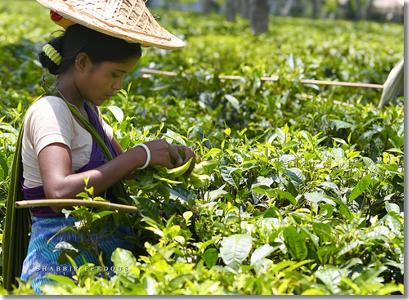person: (17, 13, 206, 290)
